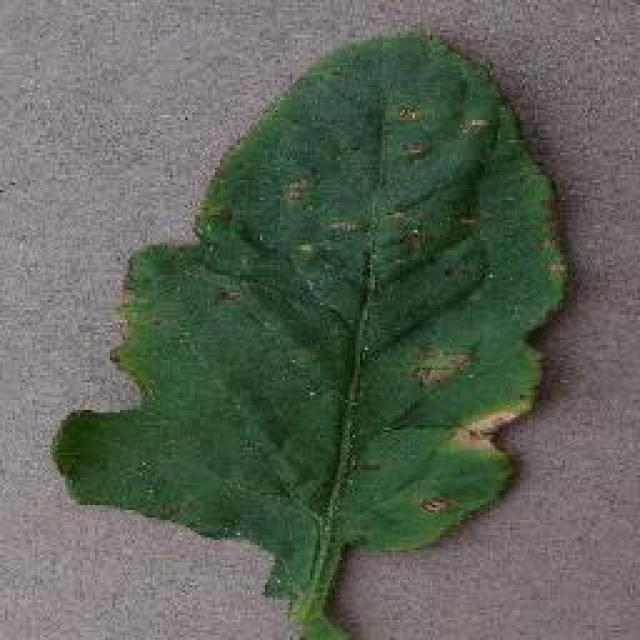Tomato___Bacterial_spot: (51, 30, 569, 638)
